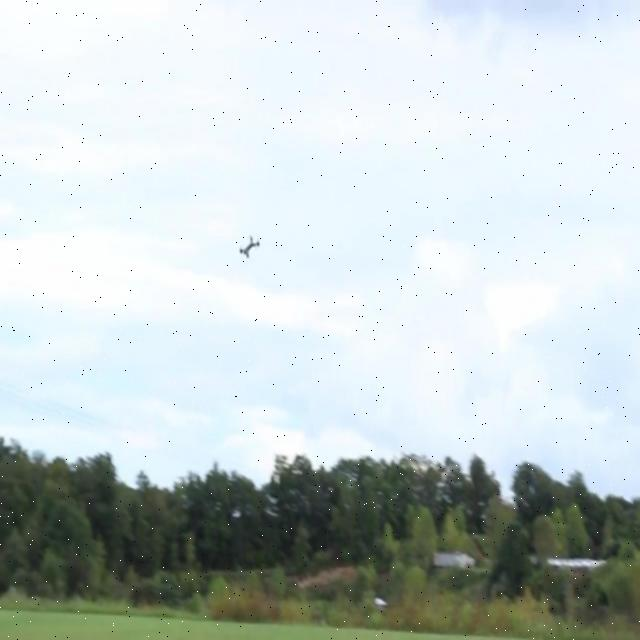UAV: (238, 234, 262, 261)
